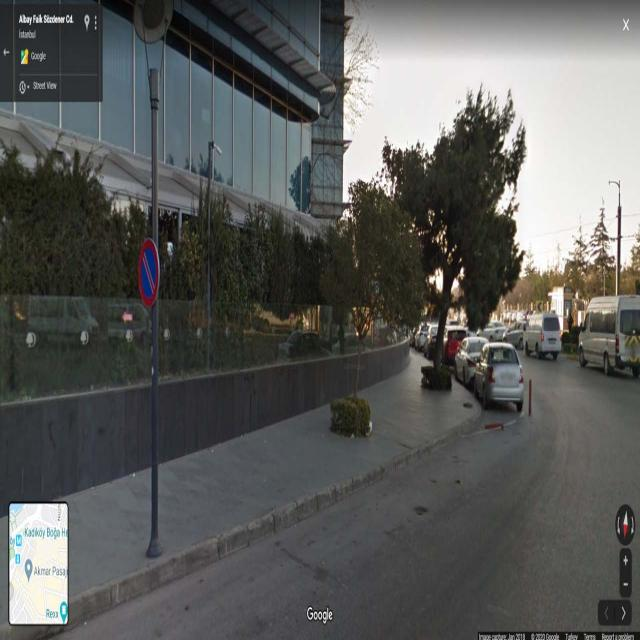parkyasak: (136, 237, 162, 306)
